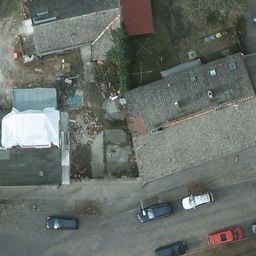car: (138, 202, 172, 223), (181, 190, 214, 211), (207, 228, 241, 247), (46, 215, 78, 232)
